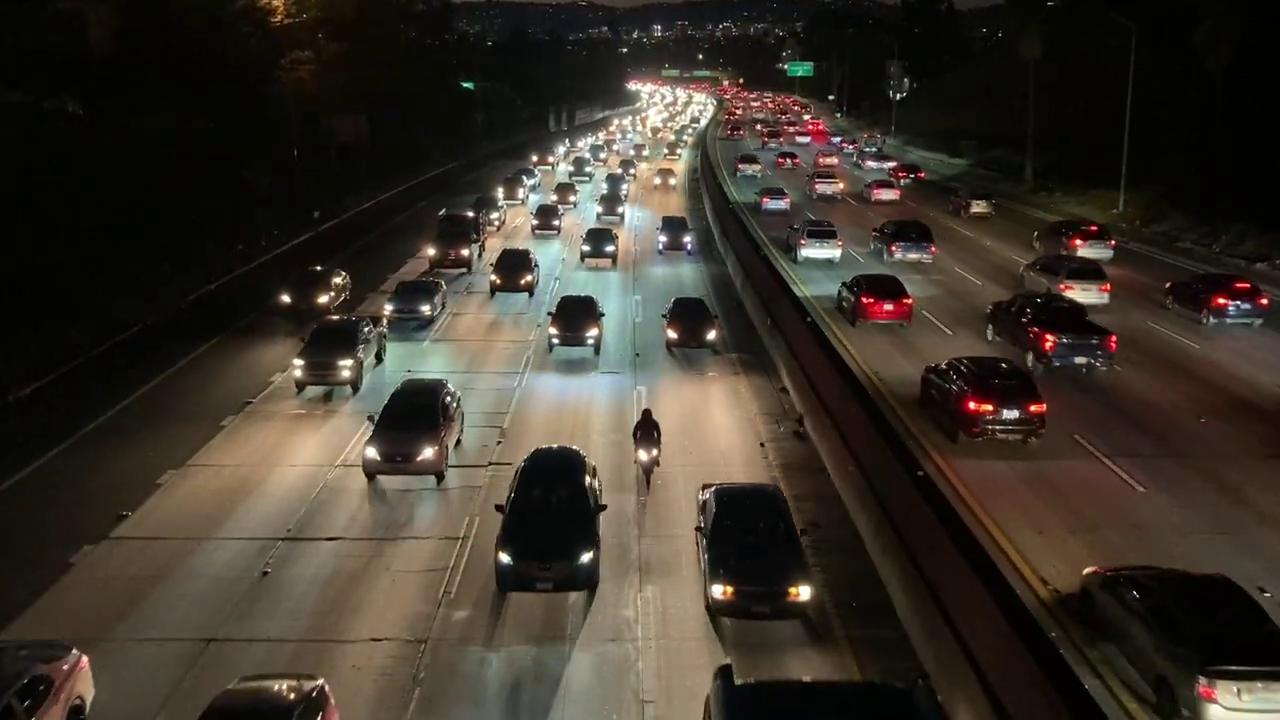car: (1064, 543, 1276, 719), (482, 442, 612, 602), (687, 479, 817, 621), (355, 374, 470, 495), (915, 353, 1054, 448), (986, 289, 1115, 375), (0, 624, 103, 719), (178, 664, 349, 719), (290, 311, 393, 395), (1162, 260, 1267, 332), (1010, 254, 1112, 311), (836, 270, 916, 327), (542, 294, 609, 359), (1032, 215, 1118, 265), (865, 216, 941, 271), (275, 261, 355, 313), (660, 293, 723, 355), (377, 276, 448, 323), (487, 247, 543, 297), (785, 218, 844, 264), (946, 185, 1000, 219), (579, 226, 622, 266), (656, 213, 696, 256), (752, 182, 795, 216), (802, 166, 844, 200), (530, 203, 568, 237), (860, 176, 903, 205), (592, 194, 630, 223), (732, 148, 766, 180), (550, 182, 582, 208), (568, 153, 598, 178), (603, 171, 631, 195), (812, 146, 840, 168), (652, 168, 678, 188)
truck: (423, 203, 491, 274)
